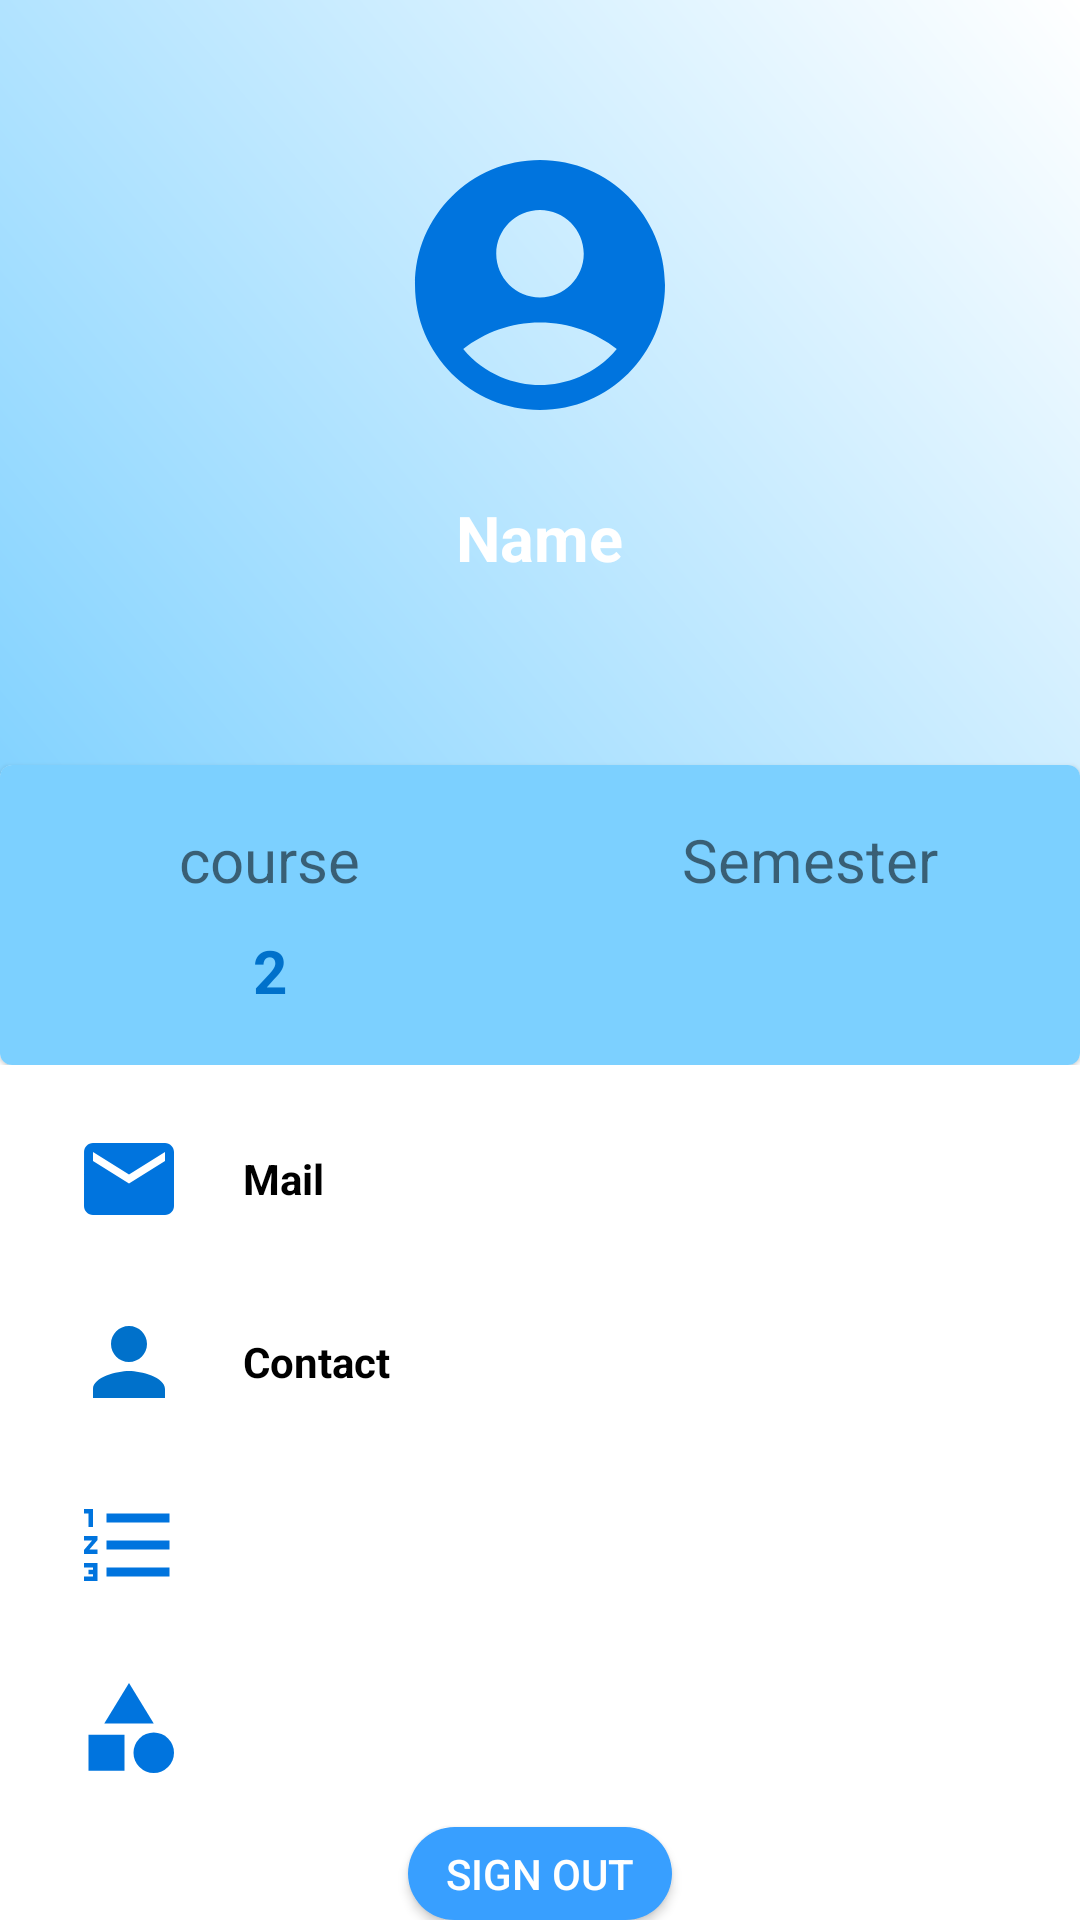

Locate icon controls on the screen. Image size 1080w x 1920h, boxes as (x1,y1,x2,y2).
account circle: (415,160,665,410)
category: (88,1683,174,1773)
format list numbered: (84,1509,170,1581)
person: (93,1326,165,1398)
